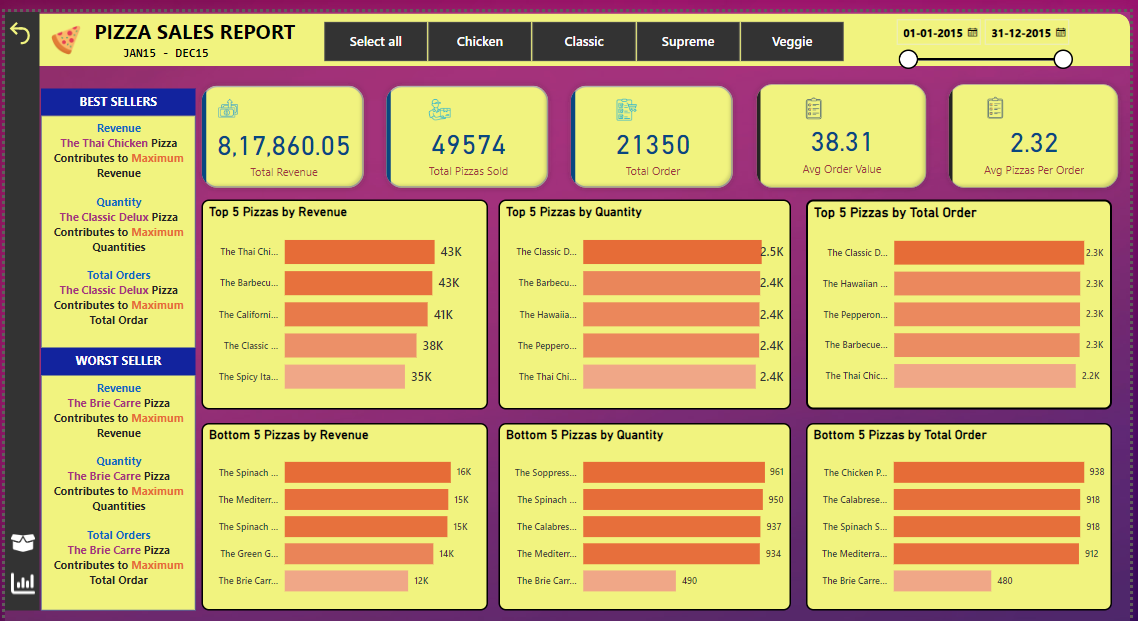

The dashboard page shown, as its layout file describes it:
{"tool":"powerbi","page":{"name":"Best/Worst Sellers","canvas":[1500,820],"ordinal":1},"visuals":[{"type":"cardVisual","fields":{"Data":["pizza_db pizza_sales.Total Revenue","pizza_db pizza_sales.Total Pizzas Sold","pizza_db pizza_sales.Total Order"]},"box":[246,82,740,168],"z":0},{"type":"cardVisual","fields":{"Data":["pizza_db pizza_sales.Avg Order Value","pizza_db pizza_sales.Avg Pizzas Per Order"]},"box":[986,80,514,170],"z":1000},{"type":"shape","box":[24,2,1476,70],"z":2000},{"type":"textbox","box":[114,2,296,50],"z":3000},{"type":"textbox","box":[152,40,144,34],"z":4000},{"type":"image","box":[46,12,70,50],"z":5000},{"type":"textbox","box":[47.3,101.3,206,36],"z":6000},{"type":"textbox","box":[48,138,206,310],"z":7000},{"type":"textbox","box":[48,448,206,36],"z":8000},{"type":"textbox","box":[48,484,206,314],"z":9000},{"type":"slicer","title":"  Pizza Category","fields":{"Values":["pizza_db pizza_sales.pizza_category"]},"box":[400,6,742,66],"z":10000},{"type":"slicer","title":"  Pizza Category","fields":{"Values":["pizza_db pizza_sales.order_date"]},"box":[1176,0,256,80],"z":11000},{"type":"barChart","title":"Top 5 Pizzas by Revenue","fields":{"Category":["pizza_db pizza_sales.pizza_name"],"Y":["pizza_db pizza_sales.Total Revenue"]},"box":[262,250,382,280],"z":12000},{"type":"barChart","title":"Bottom 5 Pizzas by Revenue","fields":{"Category":["pizza_db pizza_sales.pizza_name"],"Y":["pizza_db pizza_sales.Total Revenue"]},"box":[262,548,382,250],"z":13000},{"type":"barChart","title":"Top 5 Pizzas by Quantity","fields":{"Category":["pizza_db pizza_sales.pizza_name"],"Y":["pizza_db pizza_sales.Total Pizzas Sold"]},"box":[658,250,390,280],"z":14000},{"type":"barChart","title":"Bottom 5 Pizzas by Quantity","fields":{"Category":["pizza_db pizza_sales.pizza_name"],"Y":["pizza_db pizza_sales.Total Pizzas Sold"]},"box":[658,548,390,250],"z":15000},{"type":"barChart","title":"Top 5 Pizzas by Total Order","fields":{"Category":["pizza_db pizza_sales.pizza_name"],"Y":["pizza_db pizza_sales.Total Order"]},"box":[1068,250,408,280],"z":16000},{"type":"barChart","title":"Bottom 5 Pizzas by Total Order","fields":{"Category":["pizza_db pizza_sales.pizza_name"],"Y":["pizza_db pizza_sales.Total Order"]},"box":[1068,548,408,250],"z":17000},{"type":"shape","title":"Left Nav Background","box":[0,0,46,798],"z":18000},{"type":"actionButton","box":[0,4,40,48],"z":19000},{"type":"actionButton","box":[4,742,46,40],"z":20000},{"type":"actionButton","box":[4,688,50,40],"z":21000}]}

Visuals, with their boxes in screenshot pixels (x1, y1, x2, y2):
cardVisual - pizza_db pizza_sales.Total Revenue x pizza_db pizza_sales.Total Pizzas Sold: [x1=187, y1=70, x2=741, y2=196]
cardVisual - pizza_db pizza_sales.Avg Order Value x pizza_db pizza_sales.Avg Pizzas Per Order: [x1=741, y1=69, x2=1125, y2=196]
shape: [x1=21, y1=10, x2=1125, y2=63]
textbox: [x1=88, y1=10, x2=310, y2=48]
textbox: [x1=117, y1=39, x2=224, y2=64]
image: [x1=37, y1=18, x2=90, y2=55]
textbox: [x1=38, y1=85, x2=192, y2=112]
textbox: [x1=39, y1=112, x2=193, y2=344]
textbox: [x1=39, y1=344, x2=193, y2=371]
textbox: [x1=39, y1=371, x2=193, y2=606]
"  Pizza Category" slicer: [x1=302, y1=13, x2=857, y2=63]
"  Pizza Category" slicer: [x1=883, y1=9, x2=1074, y2=69]
"Top 5 Pizzas by Revenue" barChart: [x1=199, y1=196, x2=485, y2=405]
"Bottom 5 Pizzas by Revenue" barChart: [x1=199, y1=419, x2=485, y2=606]
"Top 5 Pizzas by Quantity" barChart: [x1=495, y1=196, x2=787, y2=405]
"Bottom 5 Pizzas by Quantity" barChart: [x1=495, y1=419, x2=787, y2=606]
"Top 5 Pizzas by Total Order" barChart: [x1=802, y1=196, x2=1107, y2=405]
"Bottom 5 Pizzas by Total Order" barChart: [x1=802, y1=419, x2=1107, y2=606]
"Left Nav Background" shape: [x1=3, y1=9, x2=37, y2=606]
actionButton: [x1=3, y1=12, x2=33, y2=48]
actionButton: [x1=6, y1=564, x2=40, y2=594]
actionButton: [x1=6, y1=524, x2=43, y2=554]
